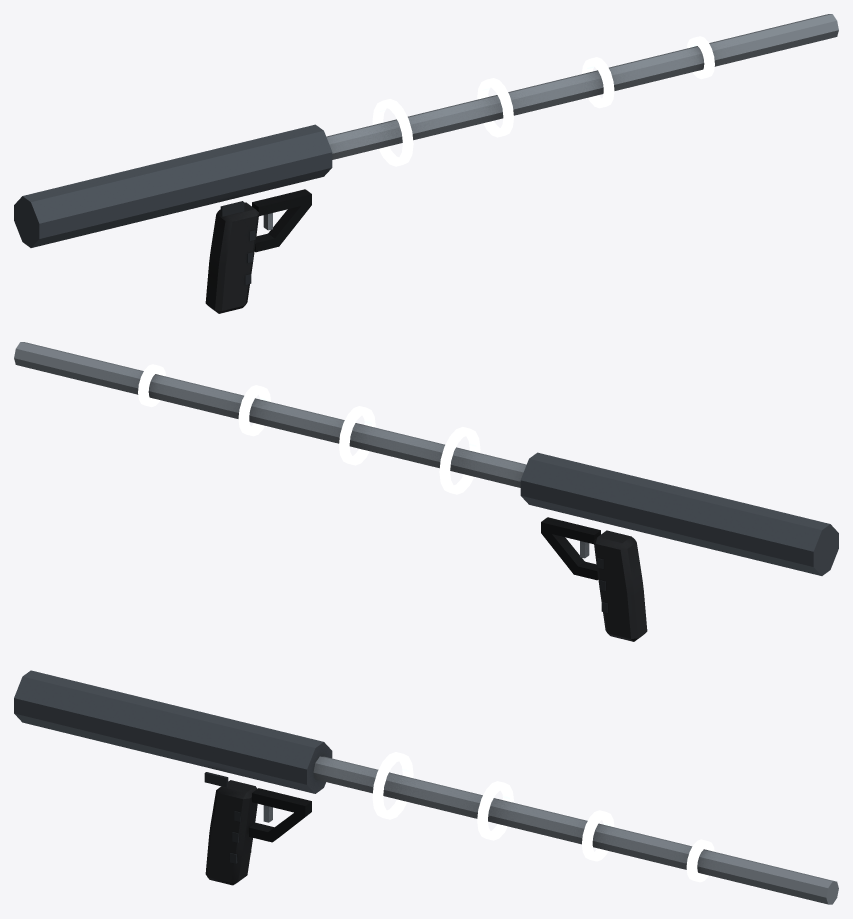
File: opr_wpn_temporal_lance_a.glb
The picture shows the model from 3 angles, top to bottom: view 1: azimuth 30°, elevation 25°; view 2: azimuth 150°, elevation 25°; view 3: azimuth 330°, elevation 25°; orthographic projection.
Parts seen in each view (by area): view 1: mesh_intact; view 2: mesh_intact; view 3: mesh_intact.
Part boxes in pixels (box(x1,y1,x2,y2)): mesh_intact: box(14, 14, 838, 313); mesh_intact: box(14, 342, 838, 641); mesh_intact: box(14, 670, 838, 904).
Bounding box in the file's own units: 1.1 × 0.215 × 0.08.
Materials: 1 (1 with a texture image).
